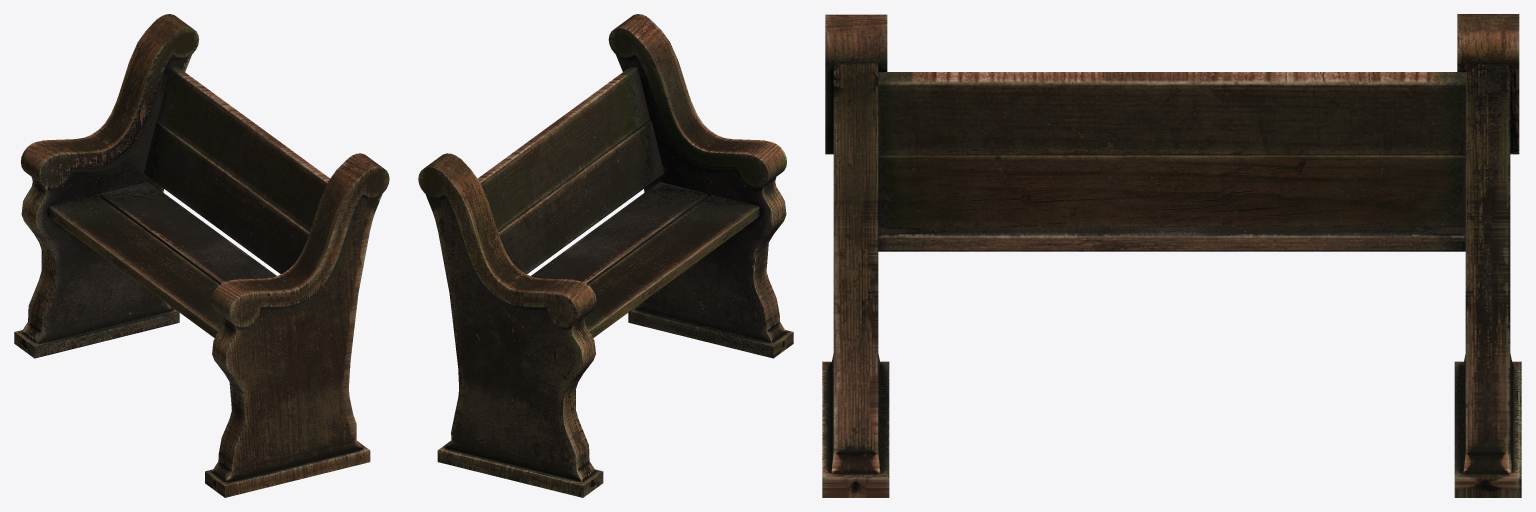
Rendered from bench2.fbx.
The picture shows the model from 3 angles, left to right: view 1: azimuth 30°, elevation 25°; view 2: azimuth 150°, elevation 25°; view 3: azimuth 270°, elevation 25°; orthographic projection. The views are drawn at different scales.
Visible parts, largest first — view 1: bench2; view 2: bench2; view 3: bench2.
Boxes of the visible parts, x1,y1,x2,y2 form: bench2: [14, 14, 389, 497]; bench2: [418, 14, 793, 497]; bench2: [822, 14, 1521, 497].
Bounding box in the file's own units: 75.51 × 128 × 167.
